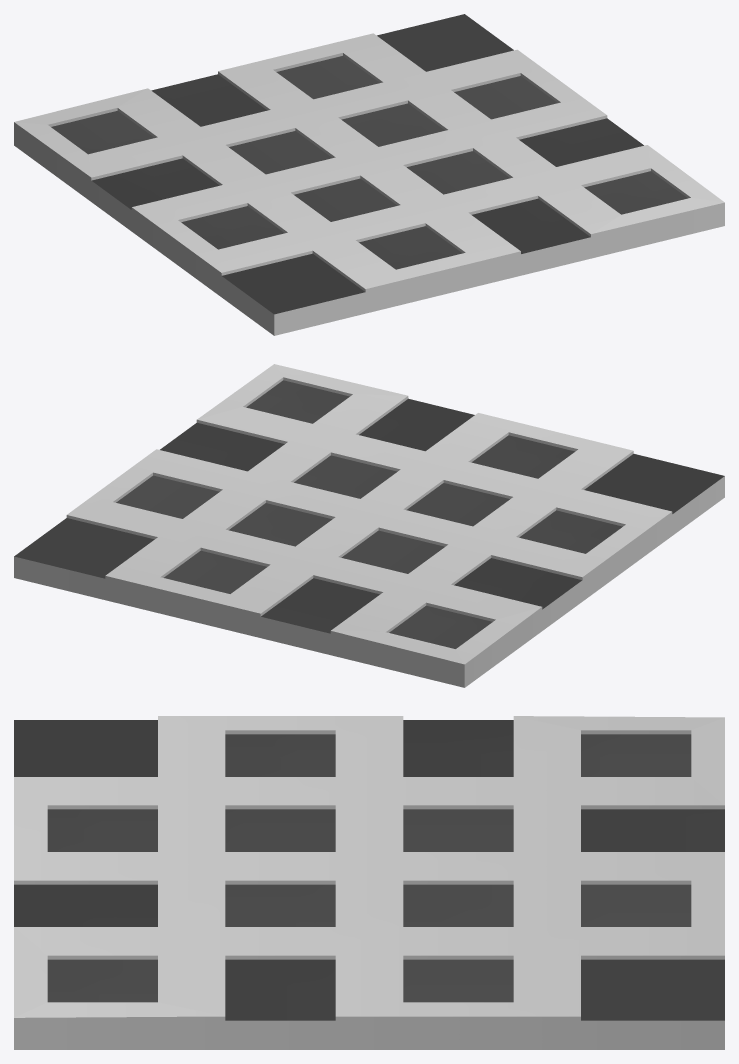
Rendered from DungeonFloor.fbx.
The picture shows the model from 3 angles, top to bottom: view 1: azimuth 30°, elevation 25°; view 2: azimuth 150°, elevation 25°; view 3: azimuth 270°, elevation 25°; orthographic projection. The views are drawn at different scales.
Visible parts, largest first — view 1: Cube; view 2: Cube; view 3: Cube.
Boxes of the visible parts, x1=… form: Cube: x1=14, y1=14, x2=724, y2=335; Cube: x1=14, y1=364, x2=724, y2=687; Cube: x1=14, y1=716, x2=724, y2=1049.
Size of the model in its own units: 200 by 10.38 by 200.
